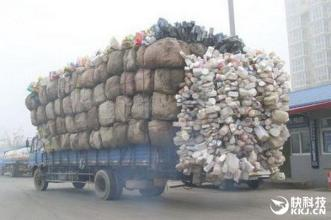chaozhai: (23, 20, 287, 202)
